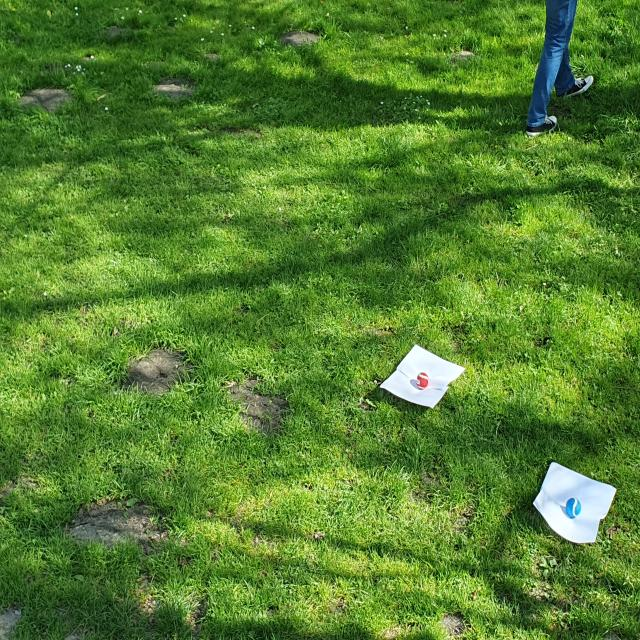blue: (566, 498, 581, 518)
red: (416, 372, 429, 390)
